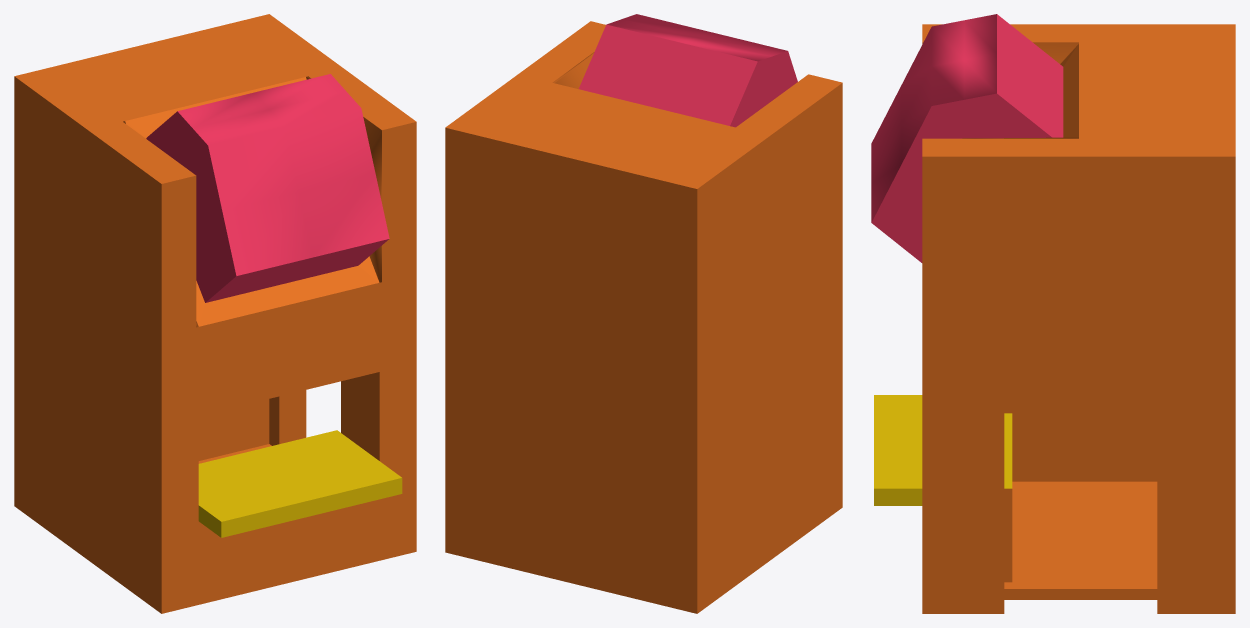
Rendered from Casa-e-Lojinha.glb.
The picture shows the model from 3 angles, left to right: view 1: azimuth 30°, elevation 25°; view 2: azimuth 150°, elevation 25°; view 3: azimuth 270°, elevation 25°; orthographic projection. The views are drawn at different scales.
Parts seen in each view (by area): view 1: mini restaurante; view 2: mini restaurante; view 3: mini restaurante.
Boxes of the visible parts, box(x1,y1,x2,y2) form: mini restaurante: box(14, 14, 416, 613); mini restaurante: box(445, 14, 842, 613); mini restaurante: box(871, 14, 1235, 613).
Size of the model in its own units: 2.12 by 3.68 by 2.46.
